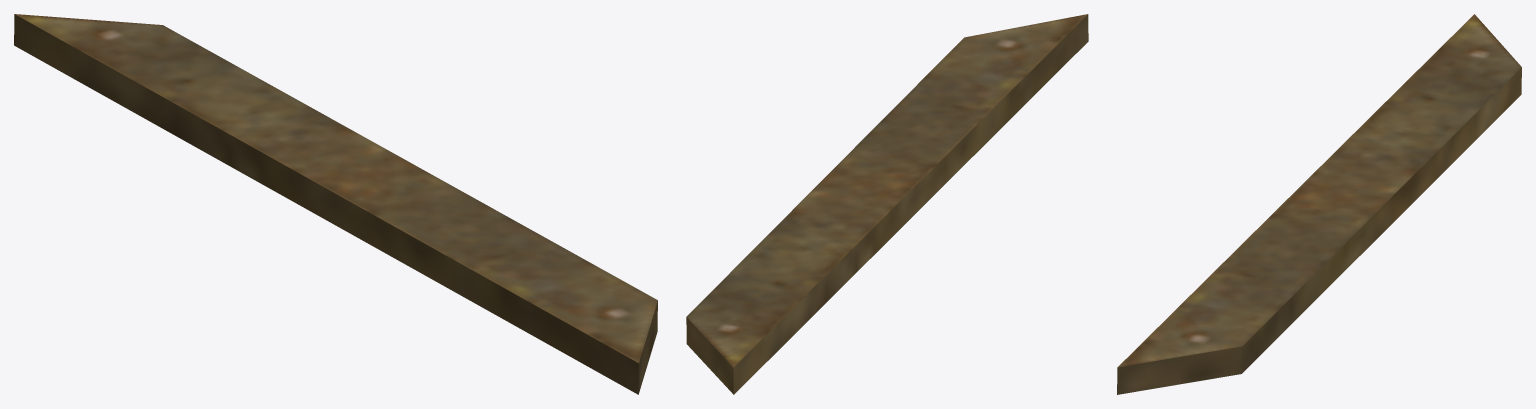
File: WoodDecor03.glb
3 renders of one model, left to right at view 1: azimuth 30°, elevation 25°; view 2: azimuth 150°, elevation 25°; view 3: azimuth 330°, elevation 25°, orthographic. The views are drawn at different scales.
Parts seen in each view (by area): view 1: WoodDecor03; view 2: WoodDecor03; view 3: WoodDecor03.
Boxes of the visible parts, box(x1,y1,x2,y2) form: WoodDecor03: box(14, 14, 657, 394); WoodDecor03: box(686, 14, 1088, 394); WoodDecor03: box(1117, 14, 1521, 394).
Size of what is drawn, in the model's own units: 0.3165 by 0.0542 by 1.49.
1 material, 1 textured.
